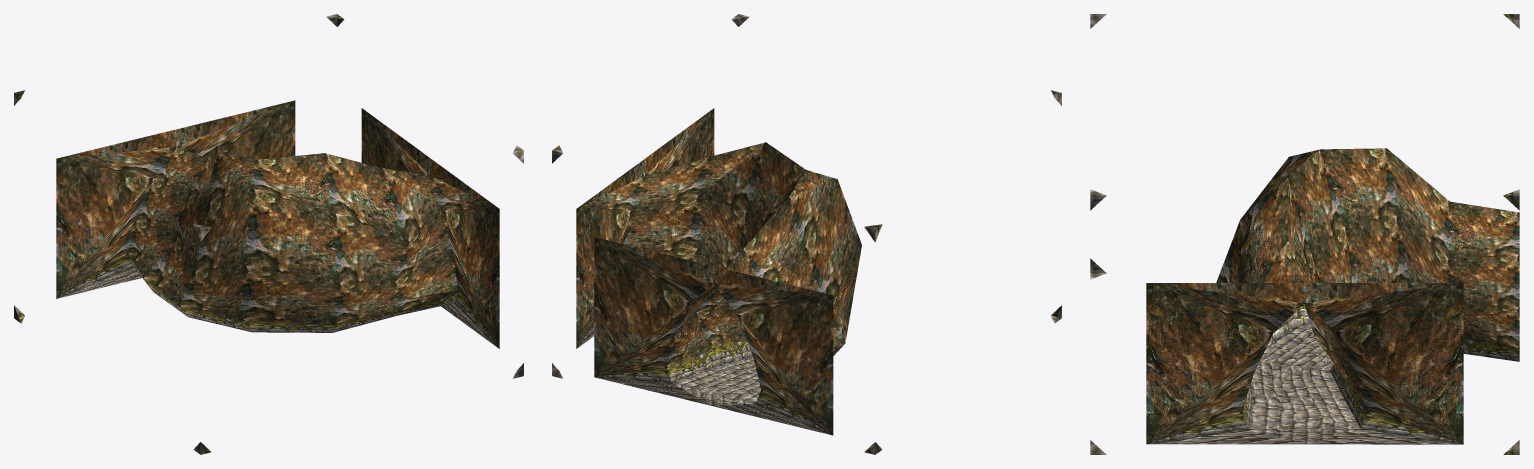
The model's file is lbc_2g.glb.
The picture shows the model from 3 angles, left to right: view 1: azimuth 30°, elevation 25°; view 2: azimuth 150°, elevation 25°; view 3: azimuth 270°, elevation 25°; orthographic projection. The views are drawn at different scales.
Visible parts, largest first — view 1: lbc_2g-col; view 2: lbc_2g-col; view 3: lbc_2g-col.
Part boxes in pixels (x1=…): lbc_2g-col: x1=14, y1=14, x2=523, y2=454; lbc_2g-col: x1=552, y1=14, x2=1061, y2=454; lbc_2g-col: x1=1090, y1=14, x2=1519, y2=454.
Size of the model in its own units: 15 by 10 by 15.
Materials: 3 (3 with a texture image).
